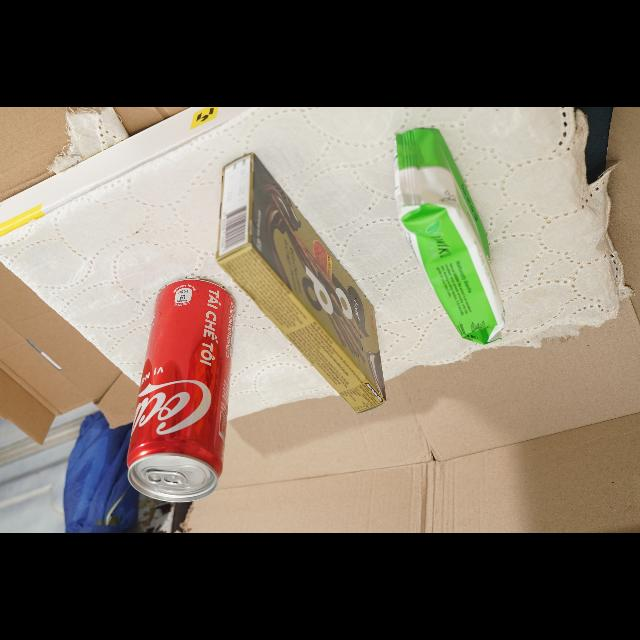banh_toppo_socola: (216, 153, 386, 412)
coca_cola: (127, 279, 236, 502)
khan_giay: (395, 128, 505, 344)
